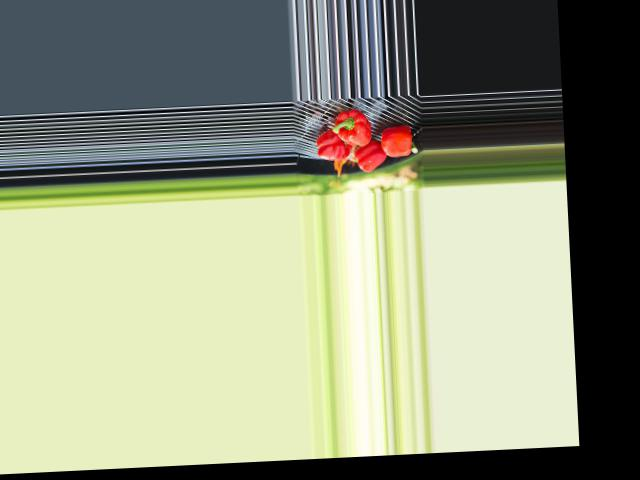bell_pepper: (315, 130, 352, 162)
